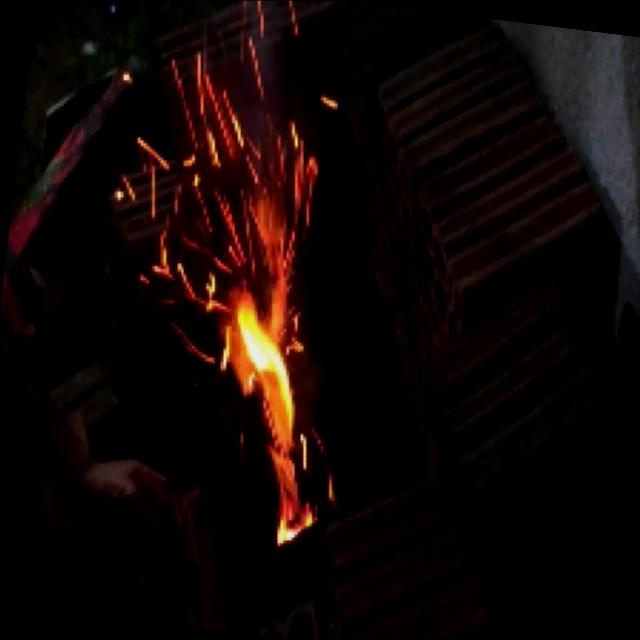fire: (77, 0, 428, 591)
